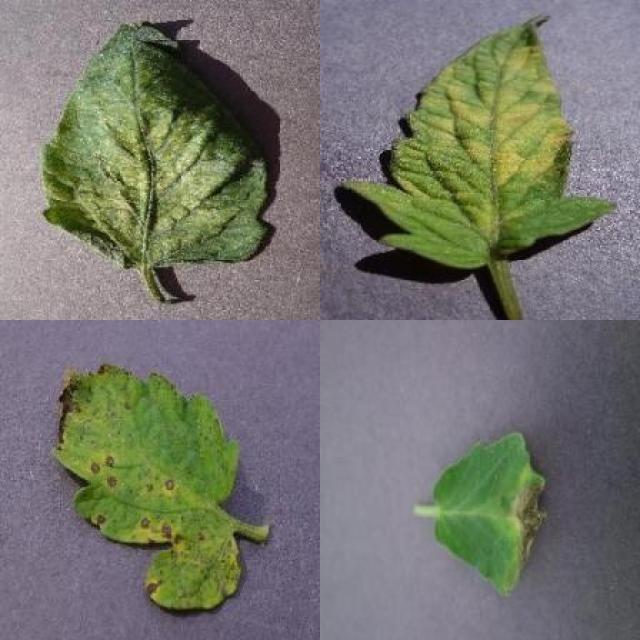Late Blight: (436, 432, 550, 598)
Leaf Mold: (342, 15, 618, 272)
Septoria: (50, 362, 244, 612)
Spider Mites: (46, 19, 271, 272)
